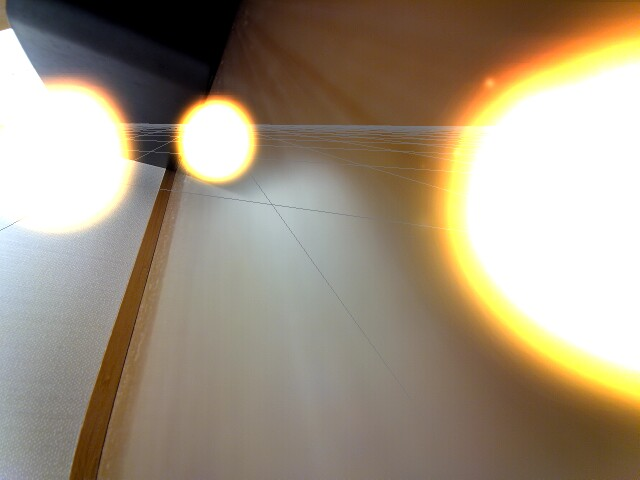fire: (430, 33, 635, 418), (0, 84, 138, 244), (172, 98, 259, 187)
